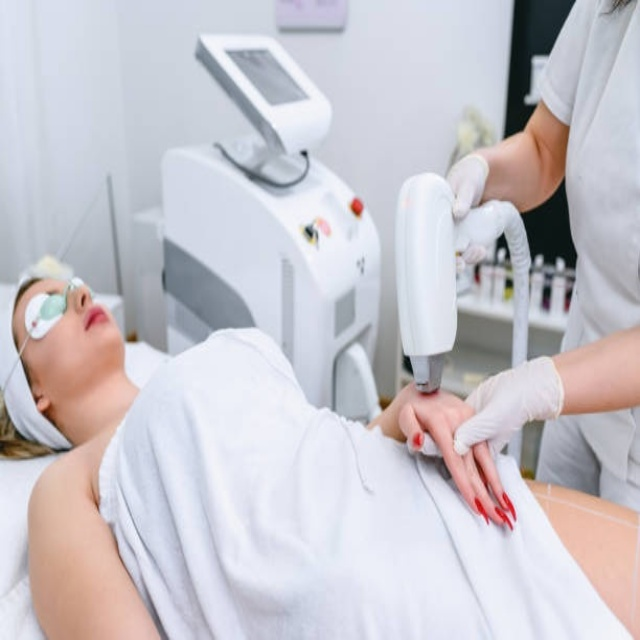Guantes: (452, 354, 565, 459), (446, 151, 490, 222)
Sin_guantes: (392, 383, 513, 530)
Sin_mascara: (69, 303, 119, 354)
